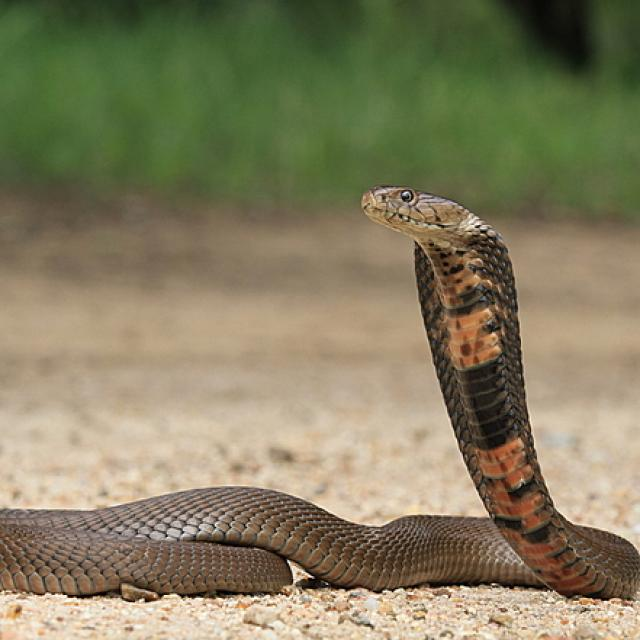Snake: (0, 173, 639, 602)
